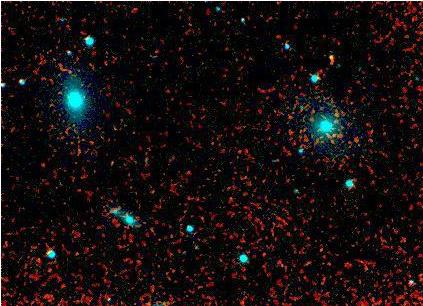star: (314, 43, 344, 73)
